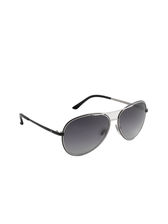glasses: (17, 90, 151, 155)
